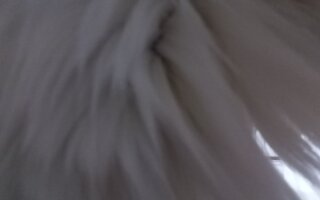clara: (1, 1, 317, 197)
